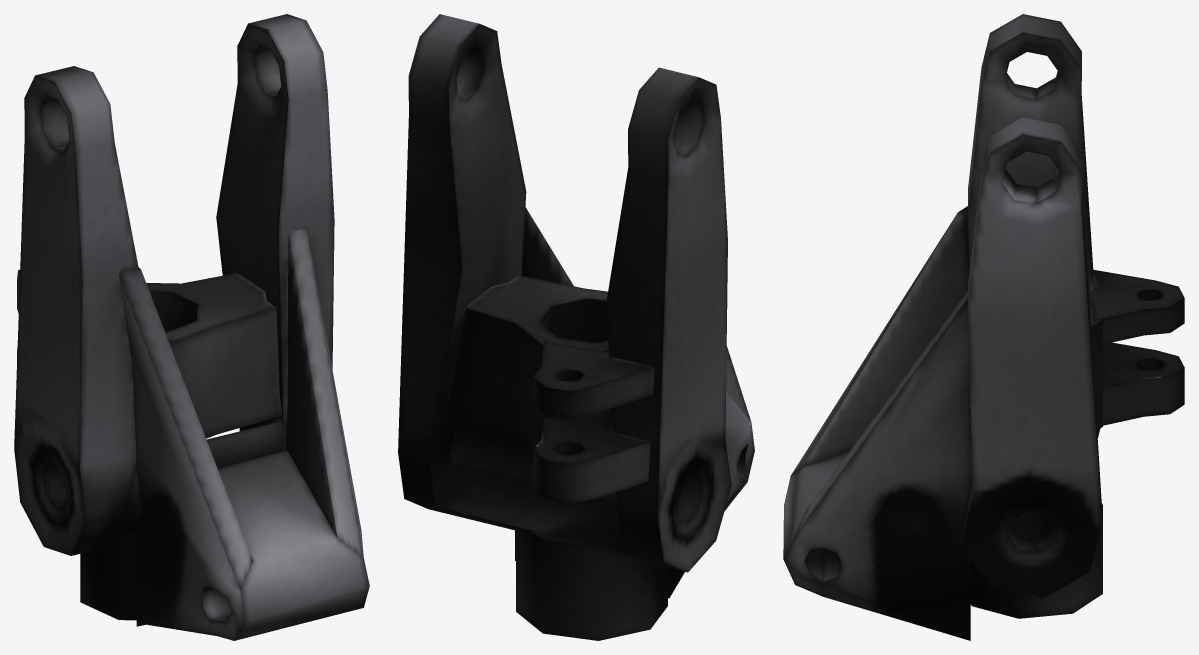
Rendered from r_uglut.dae.
The picture shows the model from 3 angles, left to right: view 1: azimuth 30°, elevation 25°; view 2: azimuth 150°, elevation 25°; view 3: azimuth 270°, elevation 25°; orthographic projection. The views are drawn at different scales.
Visible parts, largest first — view 1: r_uglut; view 2: r_uglut; view 3: r_uglut.
Part boxes in pixels (left/top/right/bottom): r_uglut: left=14, top=14, right=369, bottom=640; r_uglut: left=398, top=14, right=754, bottom=640; r_uglut: left=783, top=14, right=1184, bottom=640.
Size of the model in its own units: 0.0824 by 0.1158 by 0.1684.
1 material, 1 textured.
